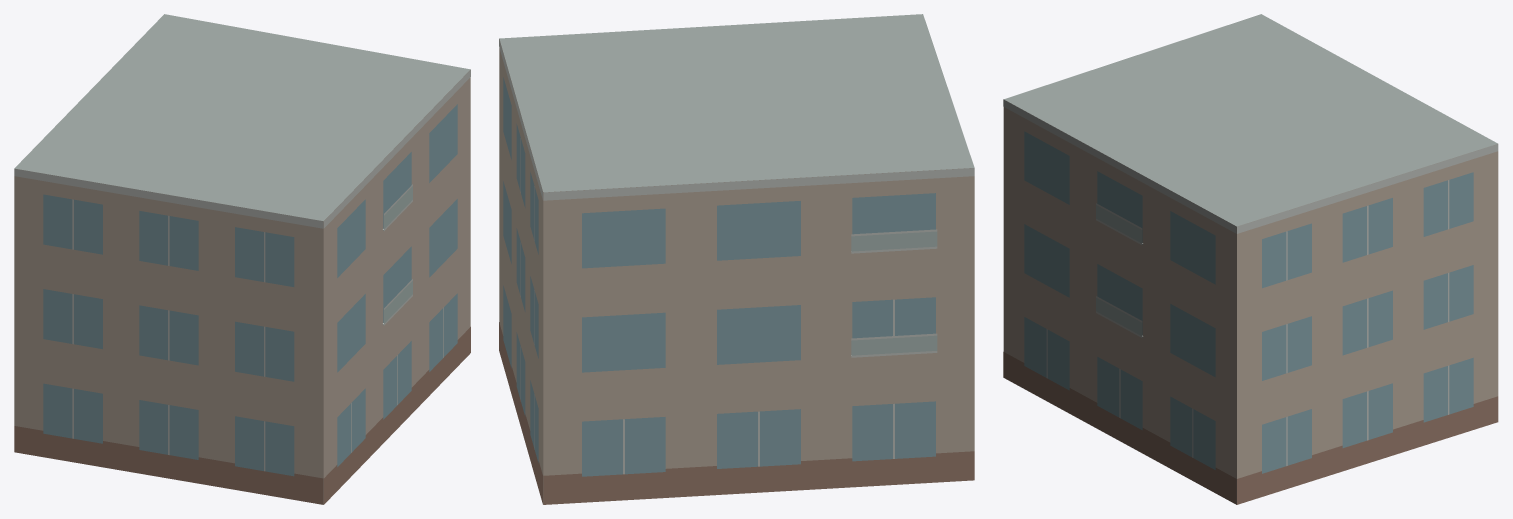
The model's file is survey-upis-32984672.glb.
3 renders of one model, left to right at view 1: azimuth 30°, elevation 25°; view 2: azimuth 150°, elevation 25°; view 3: azimuth 270°, elevation 25°, orthographic. The views are drawn at different scales.
Parts seen in each view (by area): view 1: survey-upis-32984672.tmp; view 2: survey-upis-32984672.tmp; view 3: survey-upis-32984672.tmp.
Boxes of the visible parts, x1=… form: survey-upis-32984672.tmp: x1=14, y1=14, x2=470, y2=504; survey-upis-32984672.tmp: x1=499, y1=14, x2=974, y2=504; survey-upis-32984672.tmp: x1=1003, y1=14, x2=1498, y2=504.
Bounding box in the file's own units: 15 × 9.15 × 14.75.
